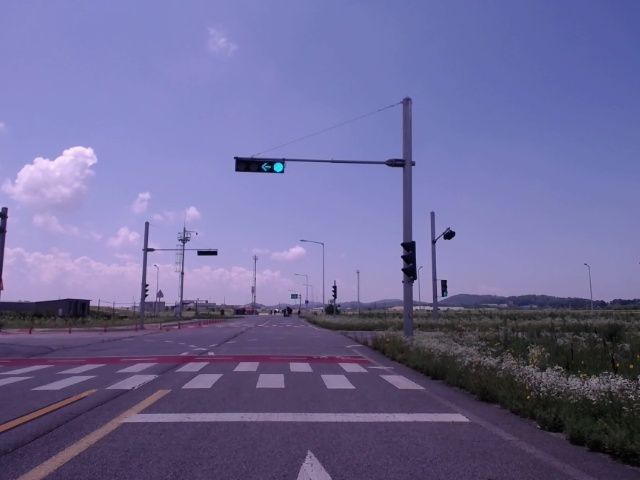all_green_4: (232, 155, 288, 175)
